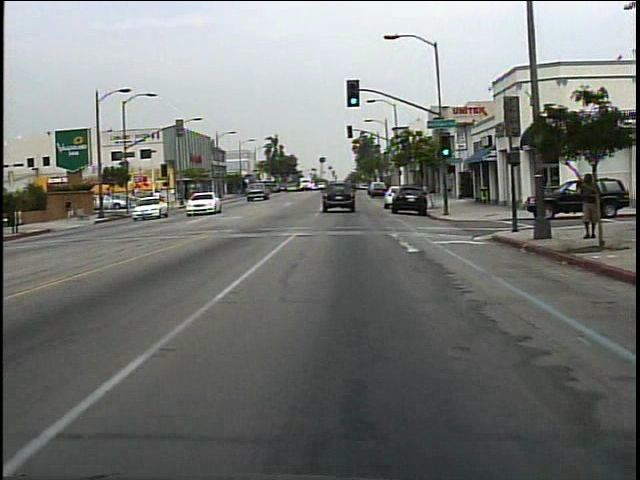person: (574, 167, 600, 245), (63, 193, 82, 222), (151, 185, 167, 210)
